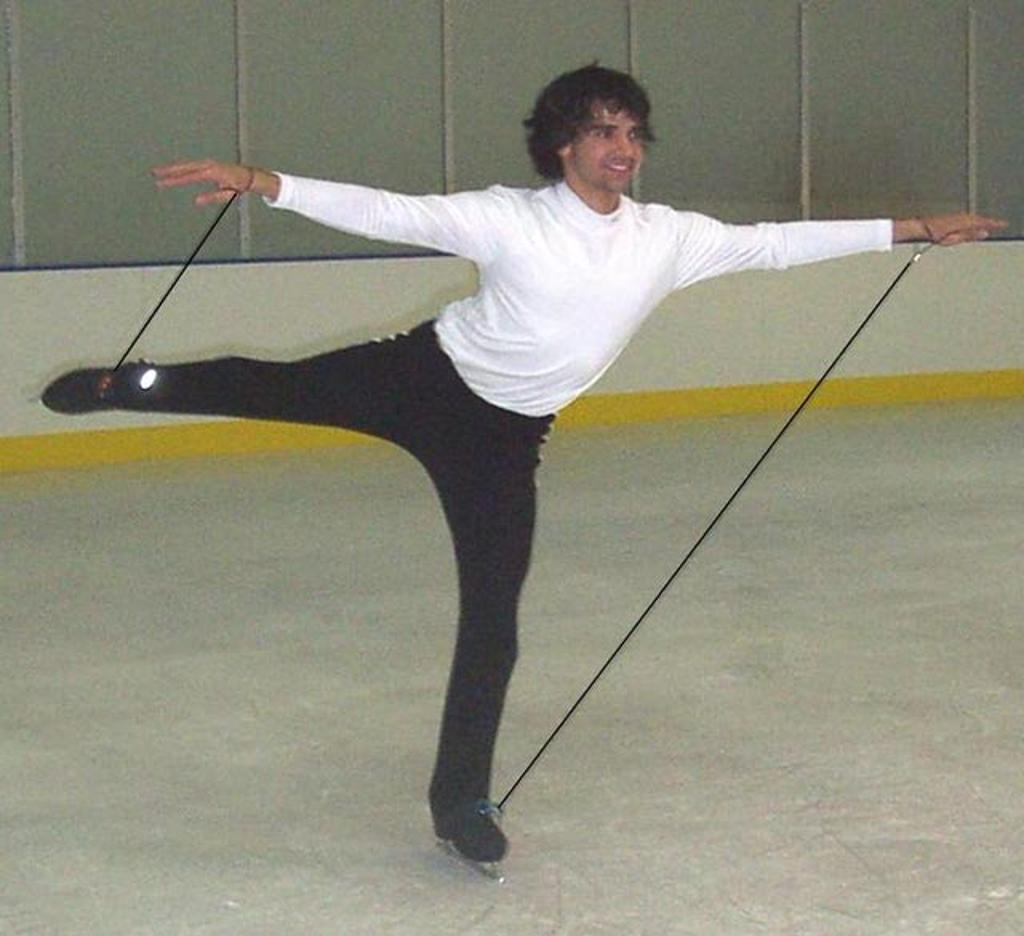face: (584, 100, 638, 188)
